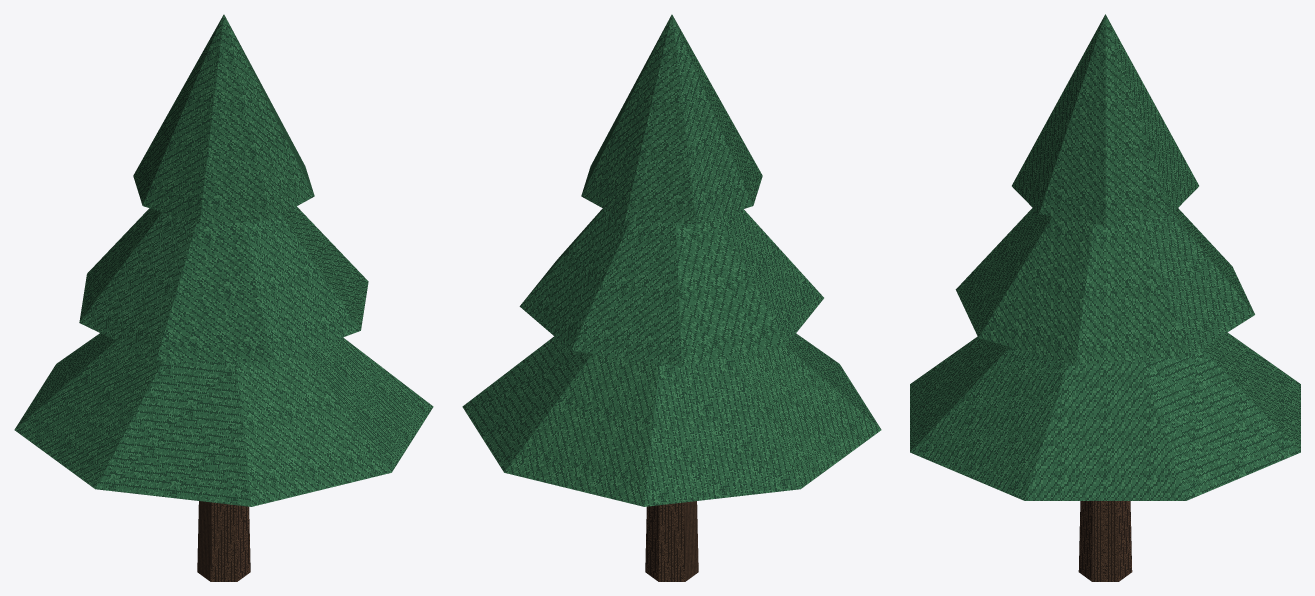
File: tree_pine_small.glb
3 renders of one model, left to right at view 1: azimuth 30°, elevation 25°; view 2: azimuth 150°, elevation 25°; view 3: azimuth 270°, elevation 25°, orthographic.
Visible parts, largest first — view 1: Body.005; view 2: Body.005; view 3: Body.005.
Boxes of the visible parts, bbox=[...] form: Body.005: bbox=[14, 14, 433, 581]; Body.005: bbox=[462, 14, 881, 581]; Body.005: bbox=[910, 14, 1300, 581].
Size of the model in its own units: 3.51 by 5.53 by 3.51.
2 materials, 2 textured.
